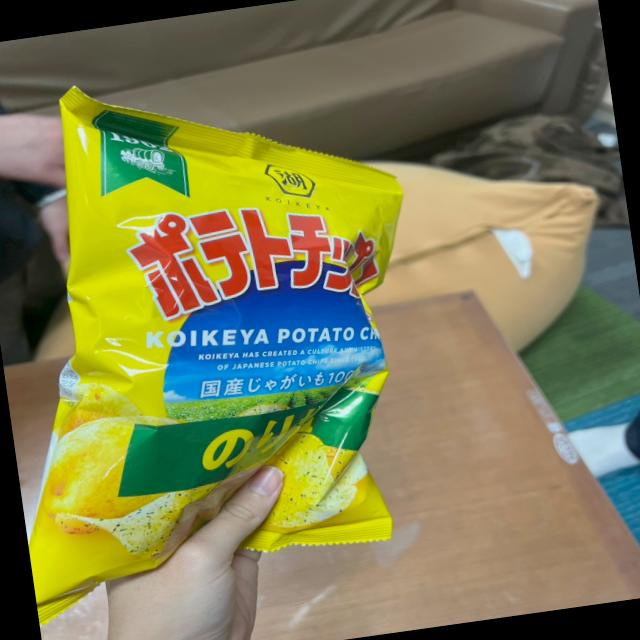chips-nori: (0, 49, 439, 610)
